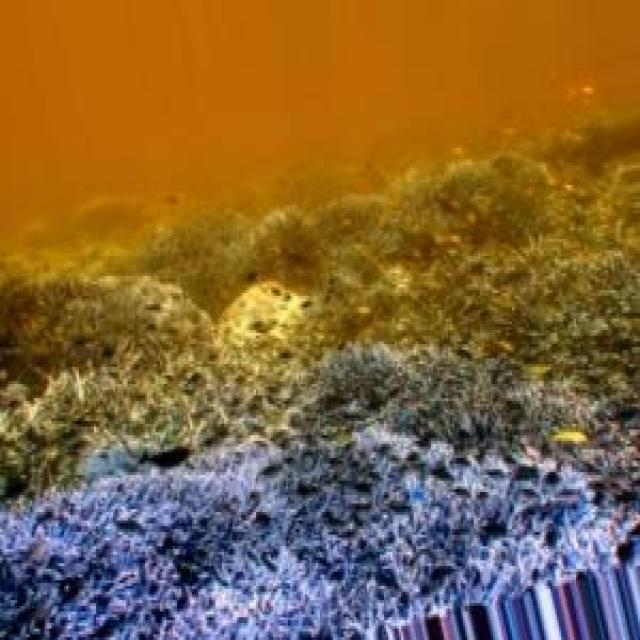Healthy: (101, 345, 640, 533)
